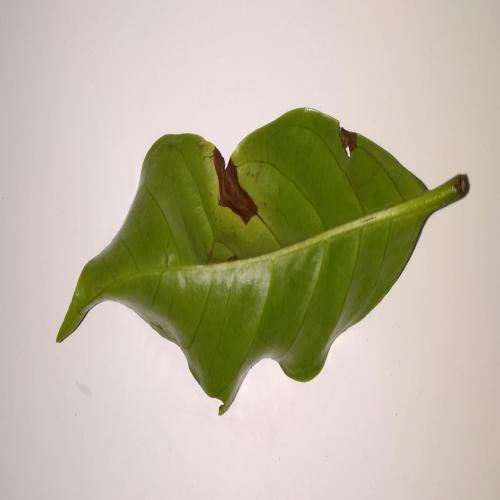miner: (338, 121, 359, 158)
